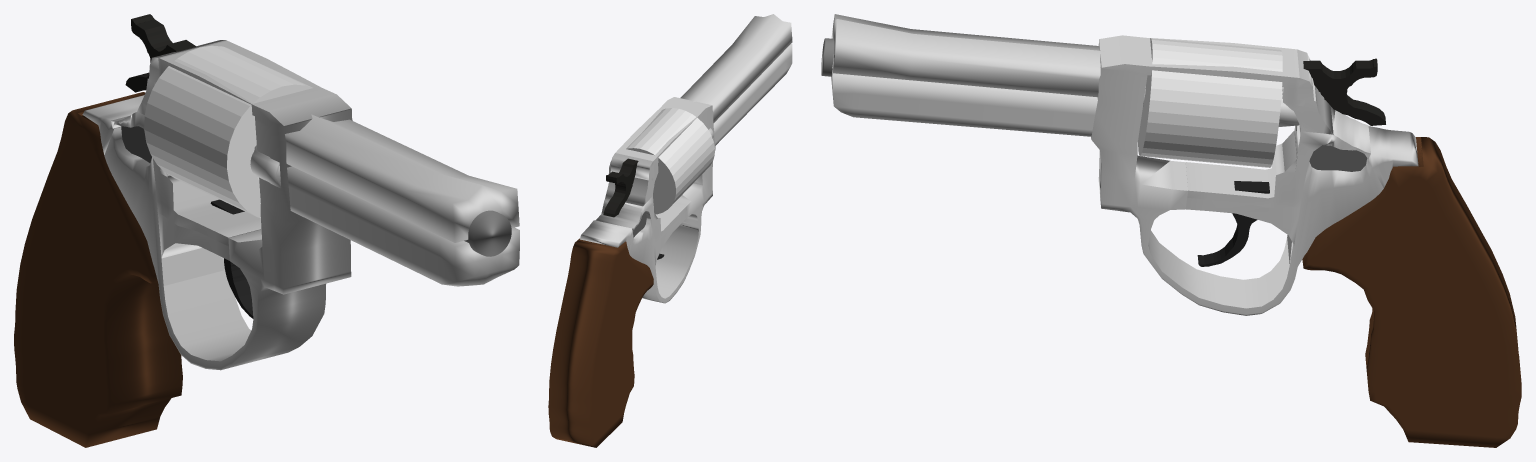
Rendered from gun.fbx.
The picture shows the model from 3 angles, left to right: view 1: azimuth 30°, elevation 25°; view 2: azimuth 150°, elevation 25°; view 3: azimuth 270°, elevation 25°; orthographic projection. The views are drawn at different scales.
Visible parts, largest first — view 1: Cylinder, Cylinder.001, Cube.003, Cube.004, Cylinder.003; view 2: Cylinder, Cylinder.001, Cube.003; view 3: Cylinder, Cylinder.001, Cube.003, Cube.004.
Boxes of the visible parts, bbox=[...] form: Cylinder: bbox=[14, 40, 519, 447]; Cylinder.001: bbox=[144, 45, 312, 217]; Cube.003: bbox=[125, 14, 196, 92]; Cube.004: bbox=[210, 199, 253, 318]; Cylinder.003: bbox=[250, 145, 281, 188]; Cylinder: bbox=[548, 14, 792, 447]; Cylinder.001: bbox=[609, 108, 714, 214]; Cube.003: bbox=[603, 158, 638, 217]; Cylinder: bbox=[821, 14, 1521, 447]; Cylinder.001: bbox=[1138, 38, 1299, 167]; Cube.003: bbox=[1303, 58, 1385, 125]; Cube.004: bbox=[1197, 181, 1269, 266].
Bounding box in the file's own units: 15.85 × 60.11 × 89.91.
